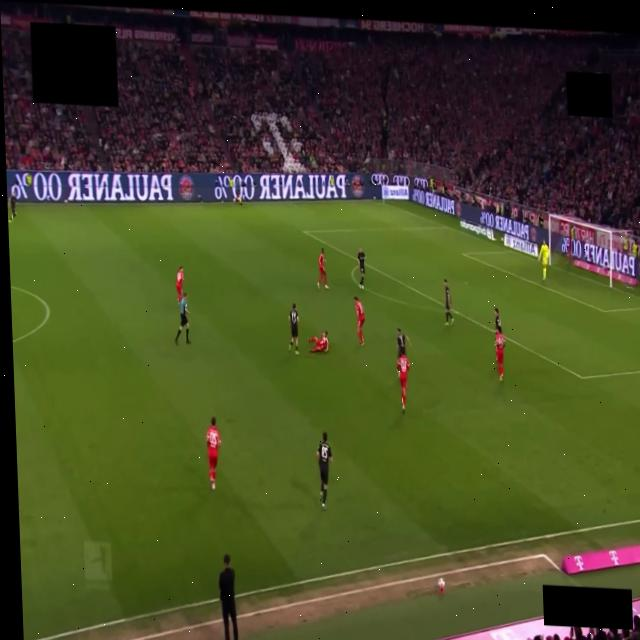player: (316, 432, 331, 510), (206, 417, 220, 489), (397, 351, 409, 413), (353, 297, 364, 345), (288, 303, 298, 354), (495, 328, 504, 381), (444, 280, 453, 326), (317, 248, 327, 288), (308, 332, 328, 352), (538, 241, 548, 280), (175, 266, 183, 304), (397, 328, 408, 355), (357, 248, 364, 289), (8, 193, 16, 222), (495, 308, 500, 331)
referee: (174, 293, 188, 344)
